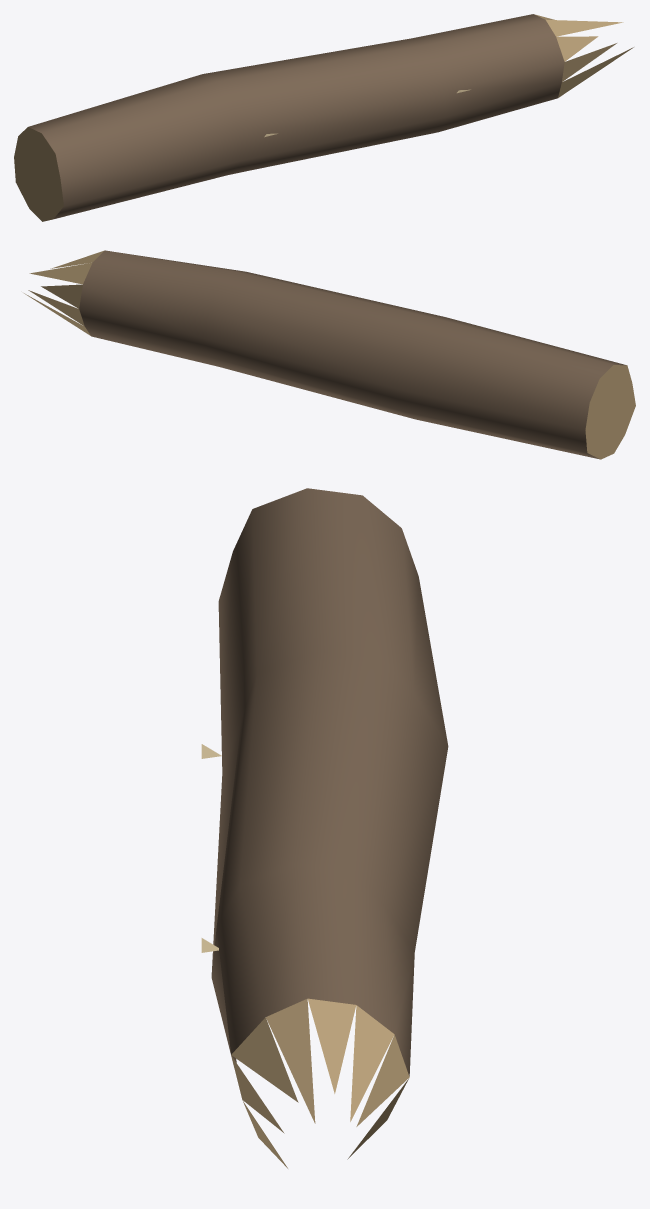
The model's file is broken-log.glb.
3 renders of one model, top to bottom at view 1: azimuth 30°, elevation 25°; view 2: azimuth 150°, elevation 25°; view 3: azimuth 270°, elevation 25°, orthographic. The views are drawn at different scales.
Parts seen in each view (by area): view 1: prop_broken-log_LOD0; view 2: prop_broken-log_LOD0; view 3: prop_broken-log_LOD0.
Part boxes in pixels (x1,y1,x2,y2): prop_broken-log_LOD0: (14, 14, 633, 221); prop_broken-log_LOD0: (24, 250, 635, 459); prop_broken-log_LOD0: (201, 488, 448, 1168).
Bounding box in the file's own units: 5.29 × 0.822 × 0.9545.
